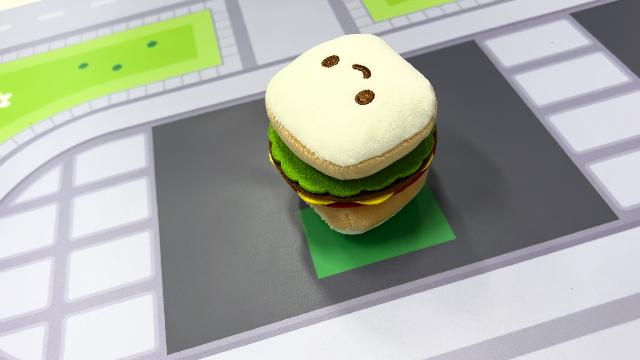sandwich: (261, 32, 441, 236)
